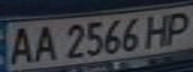2: (60, 20, 87, 61)
5: (84, 18, 109, 57)
6: (121, 15, 148, 53), (103, 16, 127, 55)
A: (0, 24, 39, 66), (27, 21, 60, 63)
H: (139, 11, 175, 48)
P: (160, 8, 193, 45)
